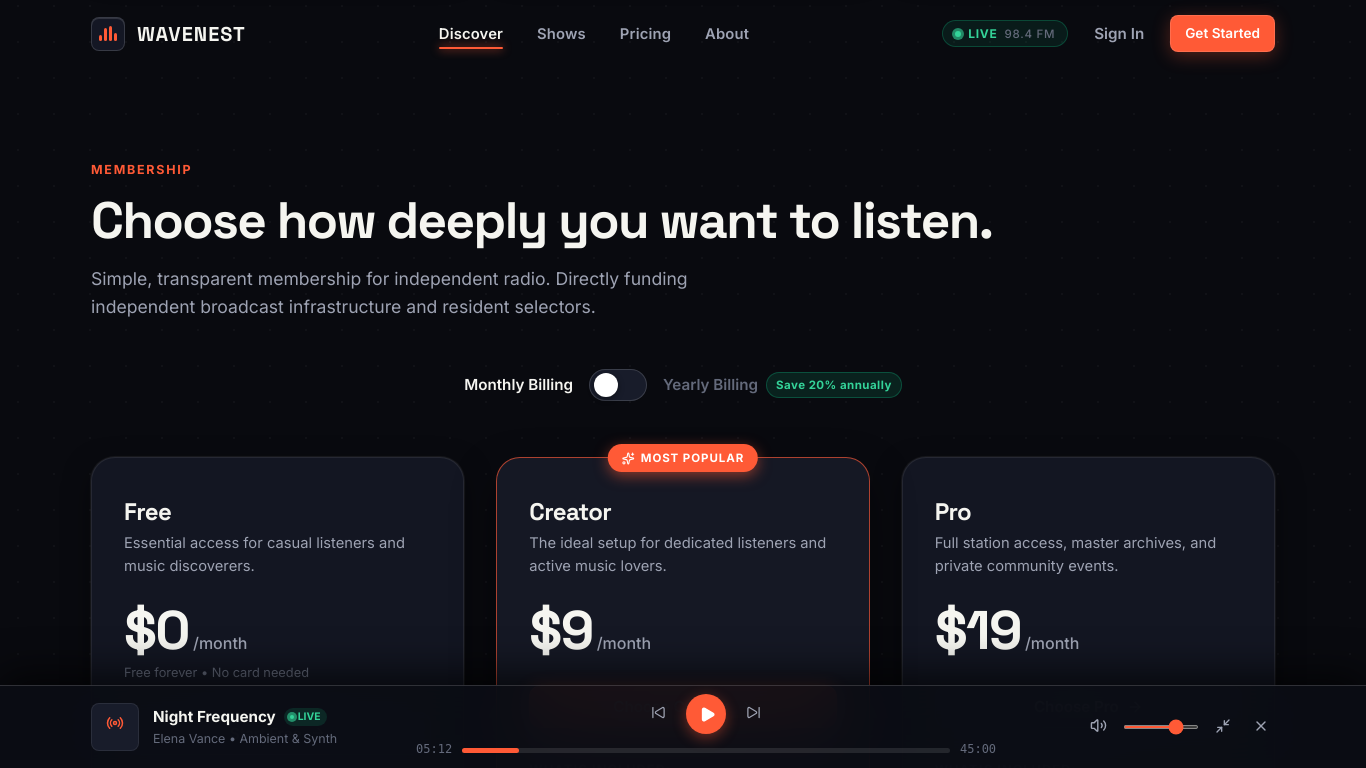
Test: Wavenest Radio Application Test Suite › toggles monthly/yearly billing and updates pricing dynamically with 20% discount
This screenshot has width=1366, height=768.
(page scrolled)
Expected: the text "$9" is shown, [529,603,593,657]
Expected: the text "$19" is shown, [935,603,1021,657]
# Toggle to Yearly
Click the switch named "toggle annual billing discount". click: (618, 385)
box: [589,369,647,401]
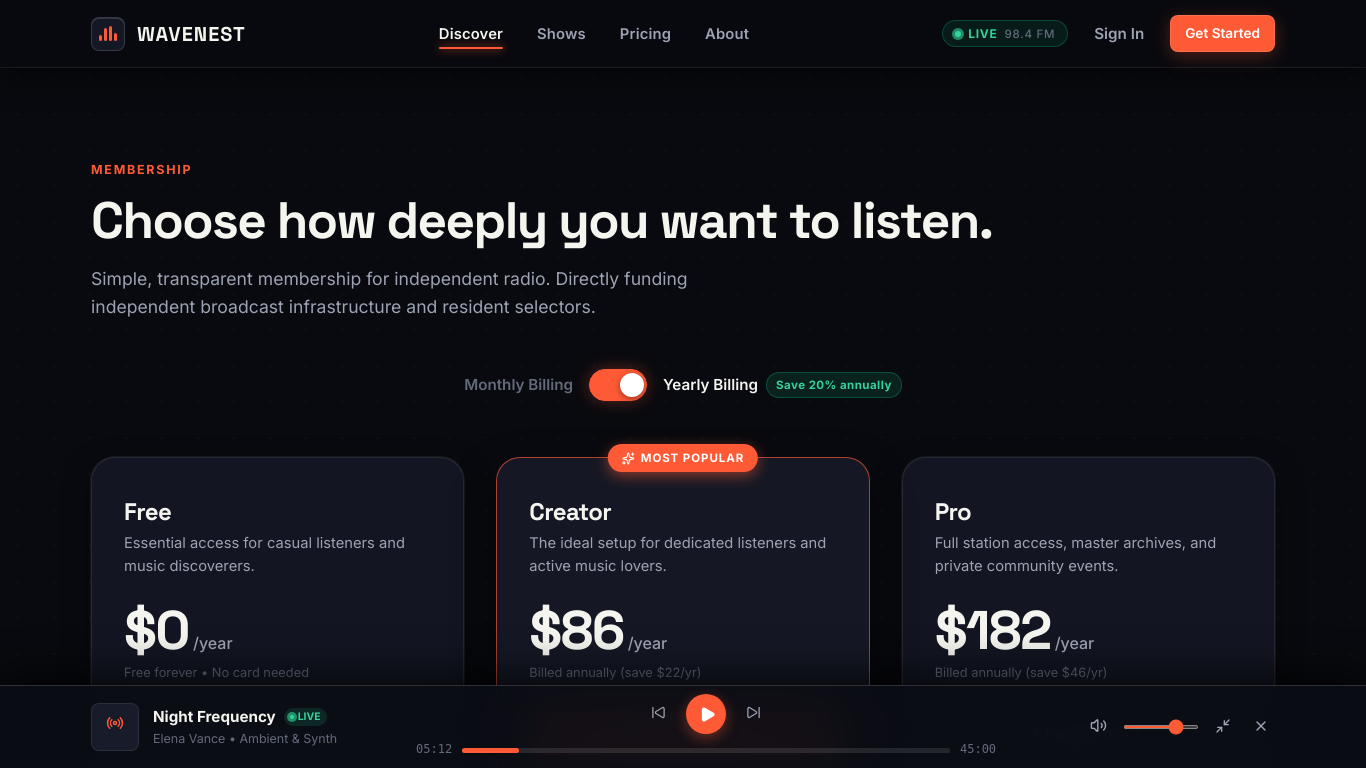
Now the text "$86" is shown, box [529,603,624,657]
Now the text "$182" is shown, box [935,603,1051,657]
